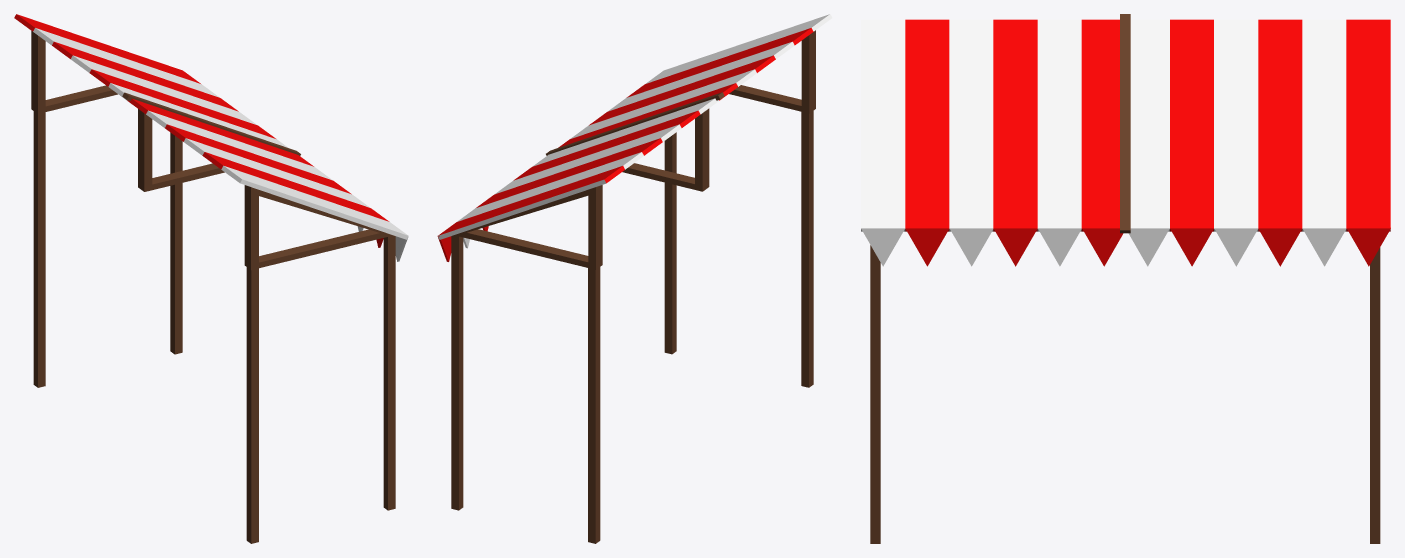
The model's file is sunshade.fbx.
The picture shows the model from 3 angles, left to right: view 1: azimuth 30°, elevation 25°; view 2: azimuth 150°, elevation 25°; view 3: azimuth 270°, elevation 25°; orthographic projection. The views are drawn at different scales.
Parts seen in each view (by area): view 1: sunshade; view 2: sunshade; view 3: sunshade.
Part boxes in pixels (<box>): sunshade: <box>14,14,408,543</box>; sunshade: <box>437,14,832,543</box>; sunshade: <box>861,14,1390,543</box>.
Bounding box in the file's own units: 189 × 387 × 424.
